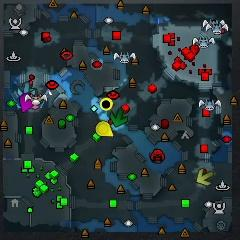p3: (20, 93, 33, 113)
p4: (95, 121, 114, 137)
p4Clone: (100, 98, 114, 111)
x1: (32, 105, 40, 110)
x2: (196, 170, 214, 185)
x3: (17, 82, 35, 96)
x4: (110, 108, 128, 126)
